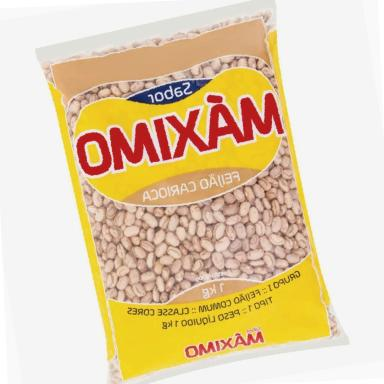beans package: (37, 0, 341, 383)
